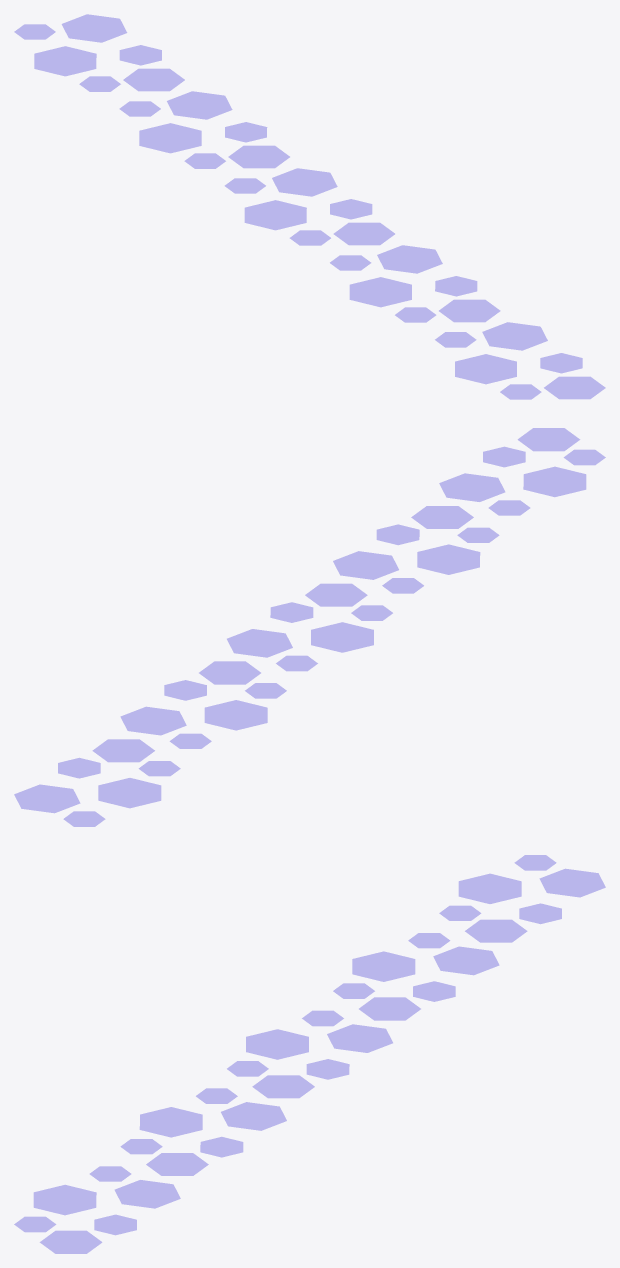
The model's file is droga.fbx.
The picture shows the model from 3 angles, top to bottom: view 1: azimuth 30°, elevation 25°; view 2: azimuth 150°, elevation 25°; view 3: azimuth 330°, elevation 25°; orthographic projection.
Visible parts, largest first — view 1: droga.001; view 2: droga.001; view 3: droga.001.
Part boxes in pixels (box(x1,y1,x2,y2)): droga.001: box(15, 14, 604, 399); droga.001: box(14, 428, 605, 826); droga.001: box(14, 855, 605, 1253).
Bounding box in the file's own units: 142 × 0 × 1117.
